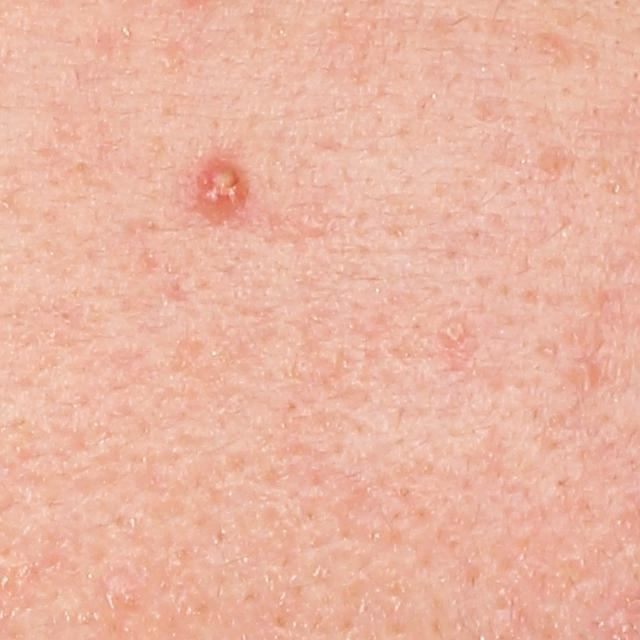comedo: (574, 355, 602, 394)
pustule: (199, 160, 244, 214)
